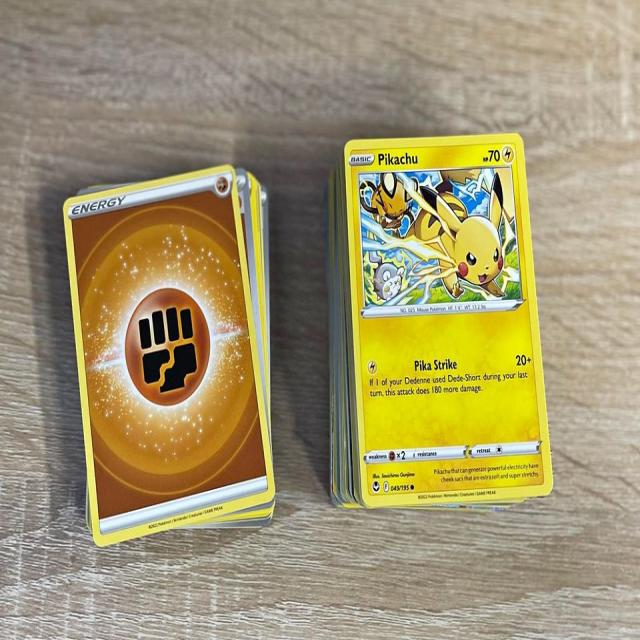card: (62, 164, 276, 548), (343, 132, 555, 508)
